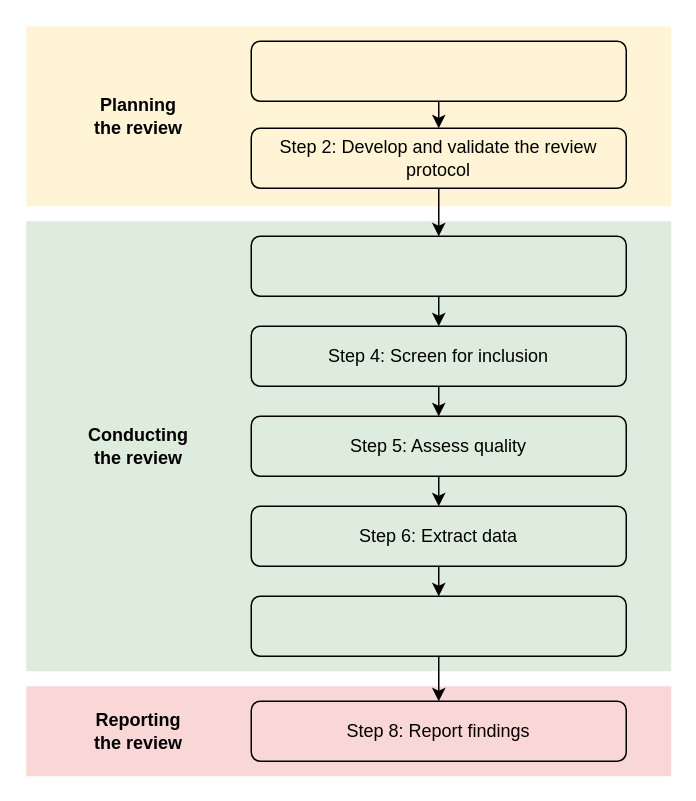
This 696x801 diagram has some shape labels left out. Each missing label, with the centre of its shape:
"Step 1: Formulate the problem" belongs at point 438,70.
"Step 3: Search the literature" belongs at point 438,265.
"Step 7: Analyze and synthesize data" belongs at point 438,625.
